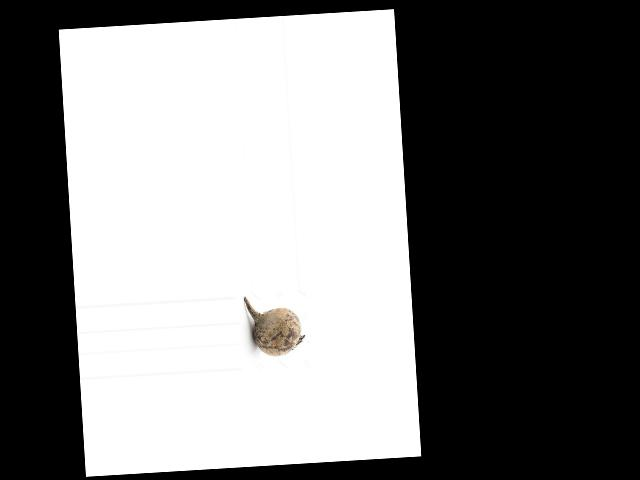beet: (243, 293, 306, 358)
